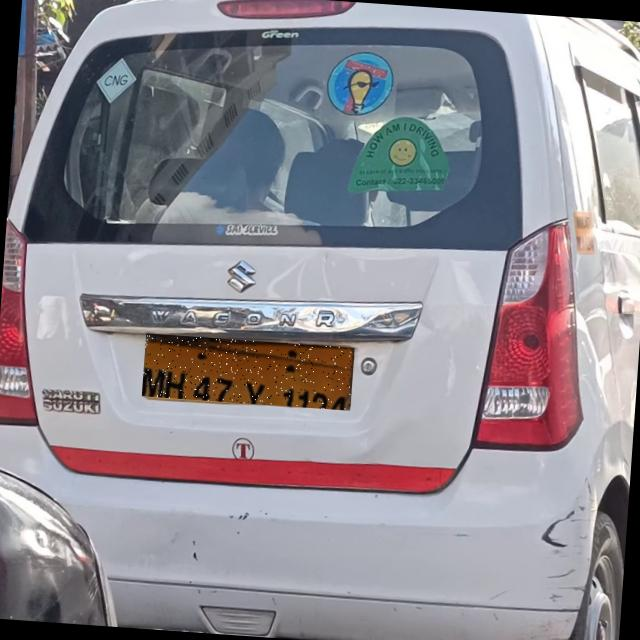Plate: (142, 334, 355, 411)
